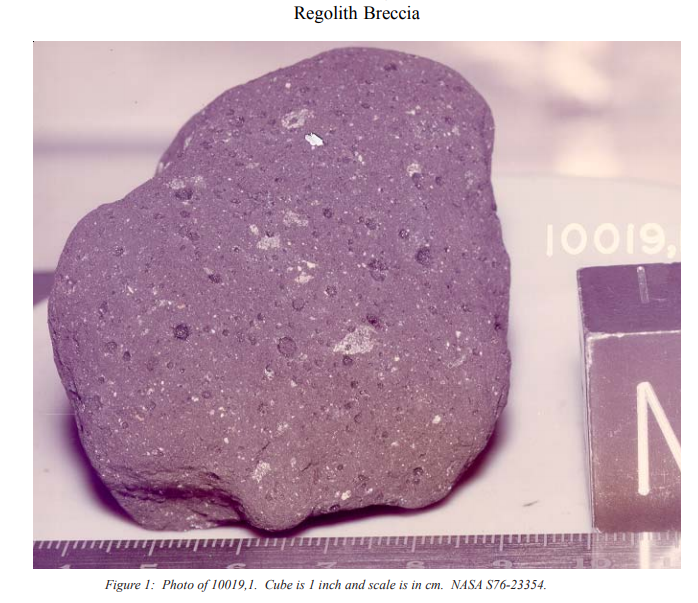Breccia: (57, 23, 518, 524)
